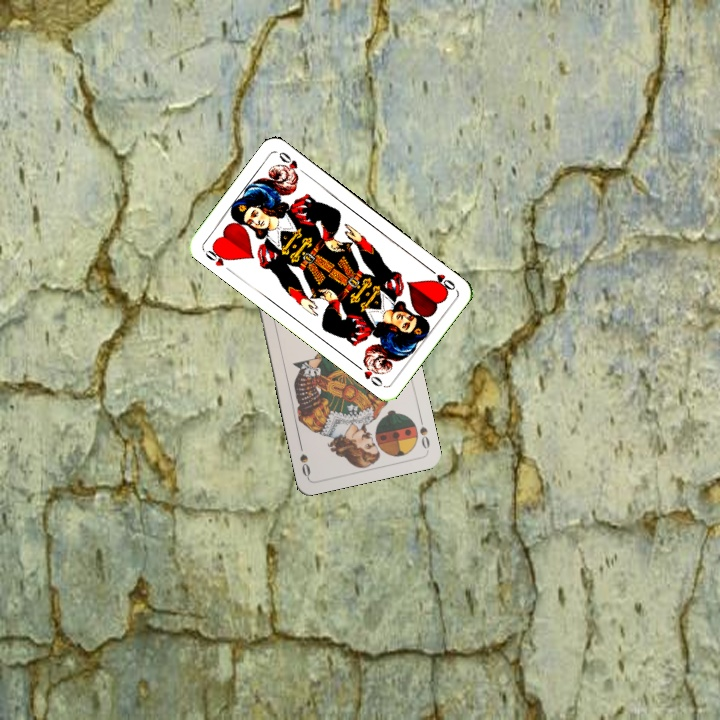HO: (424, 263, 458, 293), (200, 242, 232, 269)
SO: (415, 413, 432, 452)
